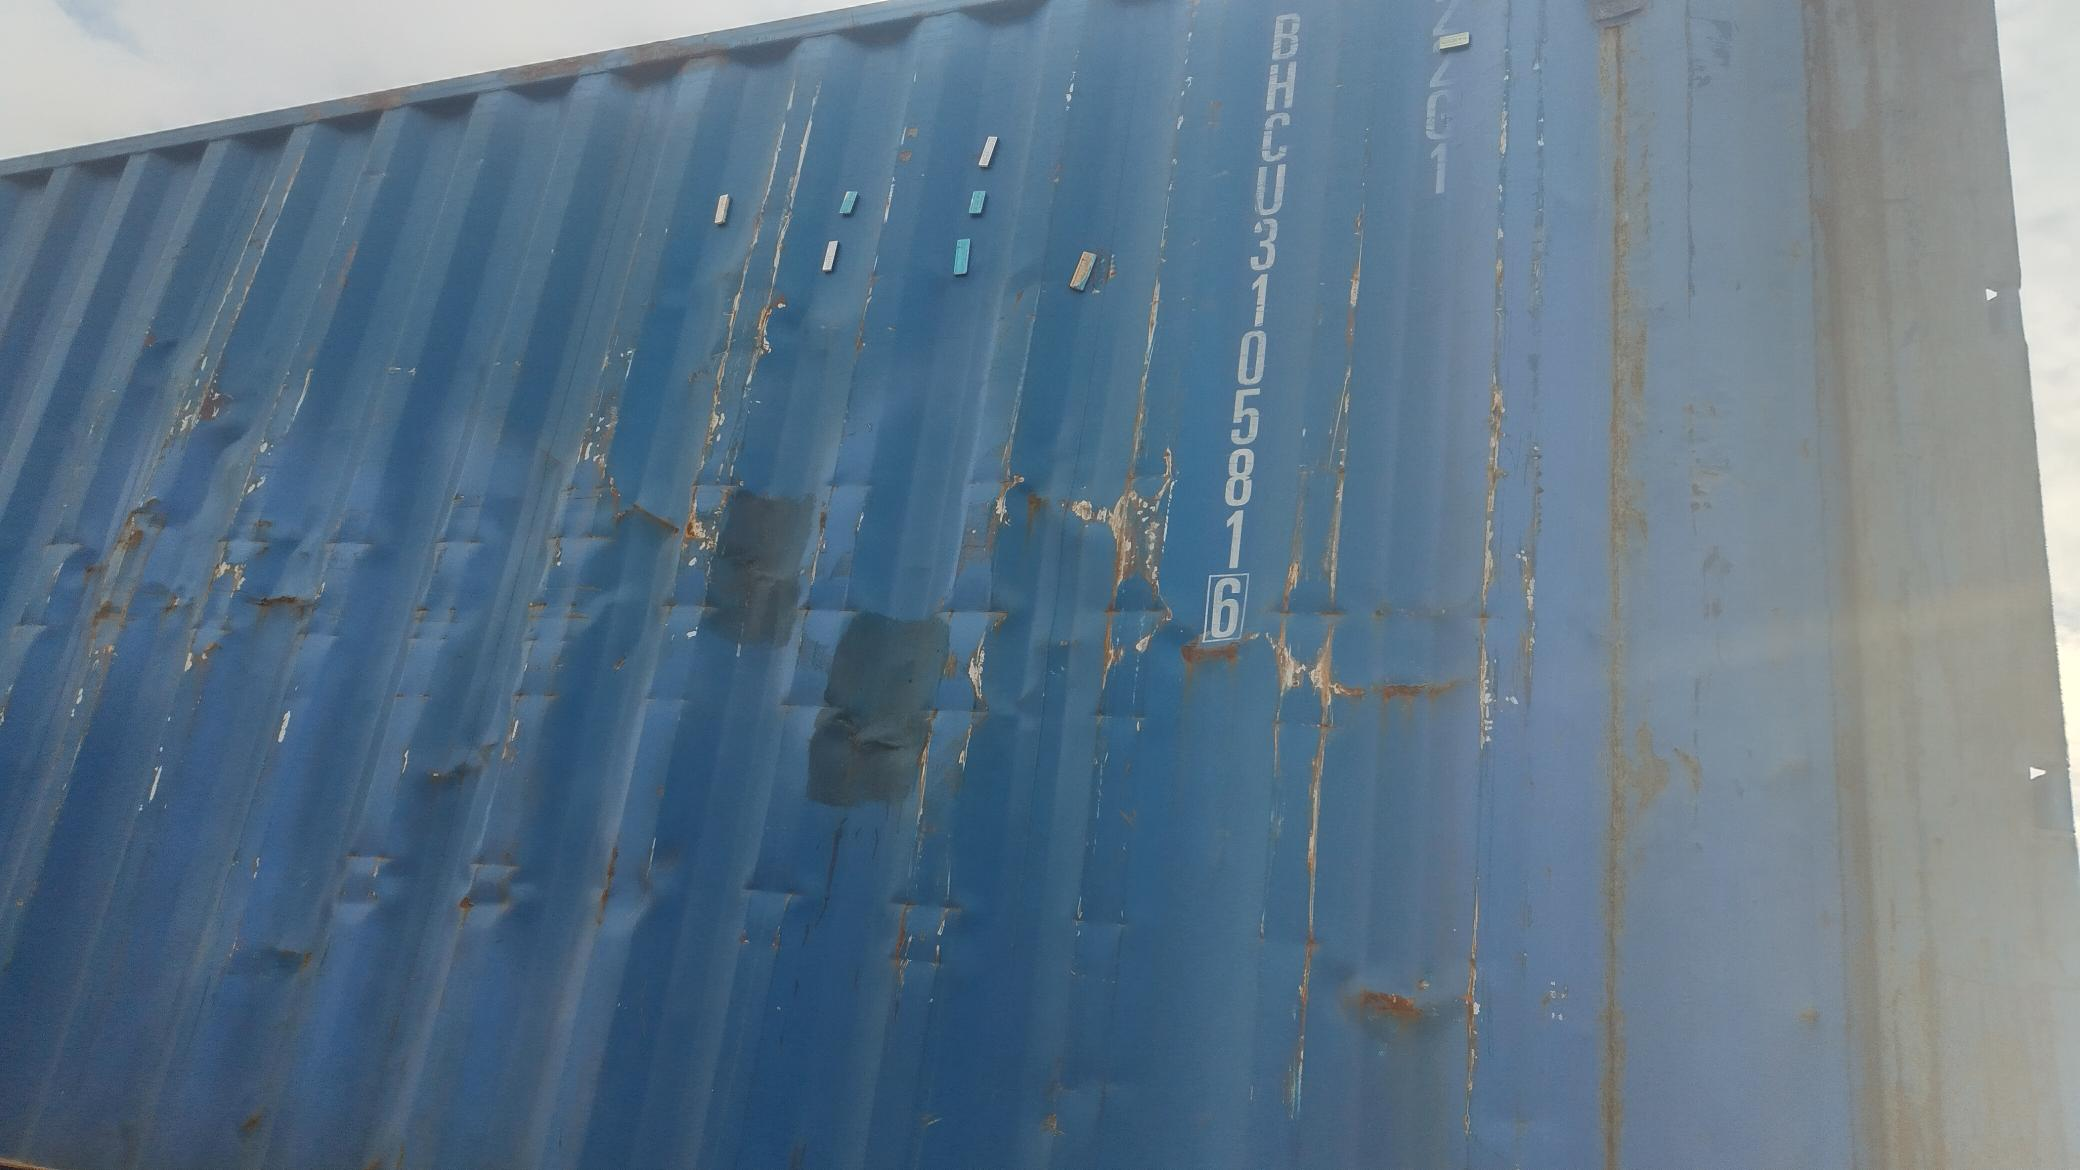dented: (969, 489, 1497, 766), (289, 826, 954, 980), (44, 471, 397, 680), (603, 461, 874, 659)
